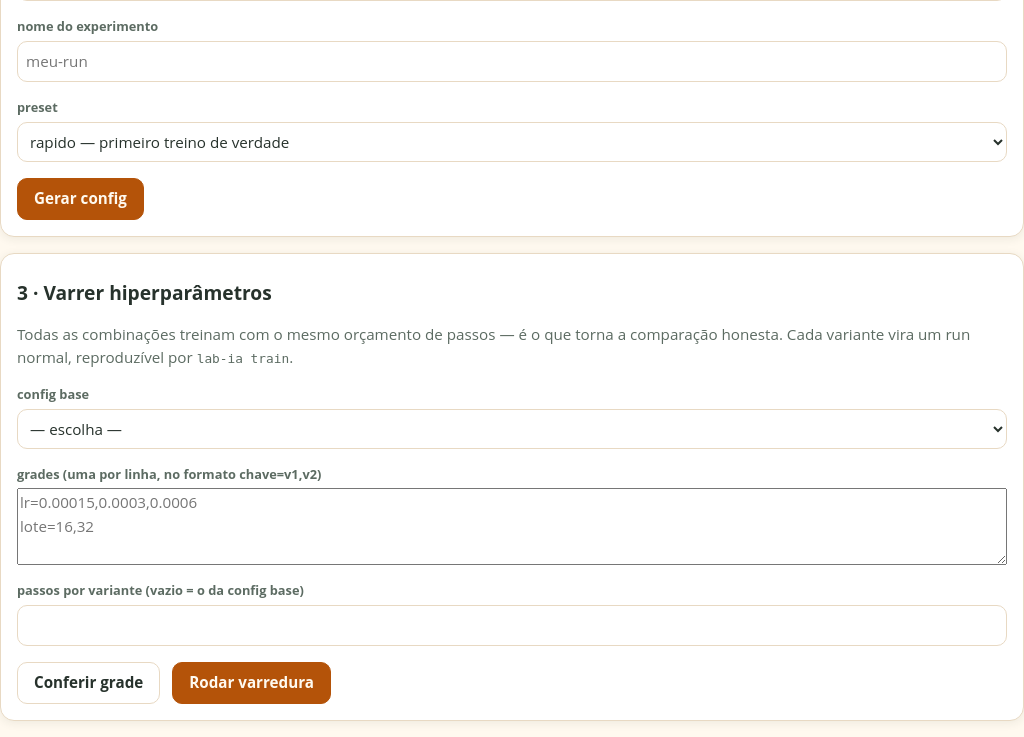
Test case: Bancada — varredura › avisa quando alguma combinação é impossível
(page scrolled)
Select "livros-rapido.yaml" in the dropdown labelled "config base": (512, 429) x1=17 y1=409 x2=1007 y2=449
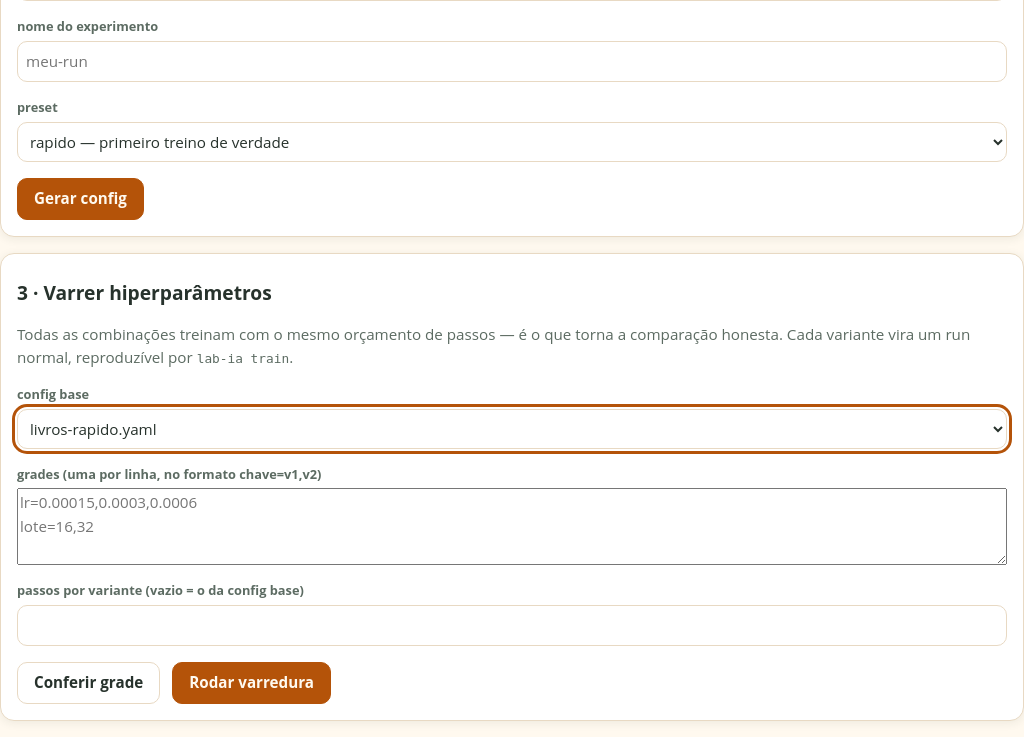
In the text box named "grades da varredura": (512, 527) x1=17 y1=488 x2=1007 y2=565, type "dim=64,65"
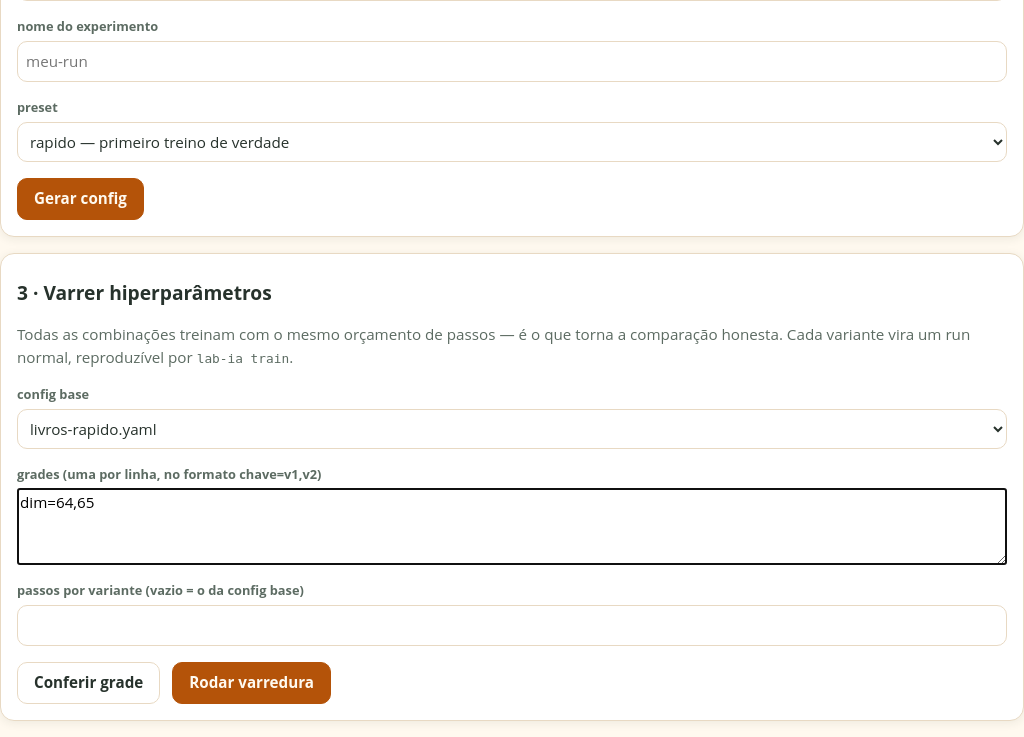
Click the button "Conferir grade": (89, 683) x1=17 y1=662 x2=160 y2=704
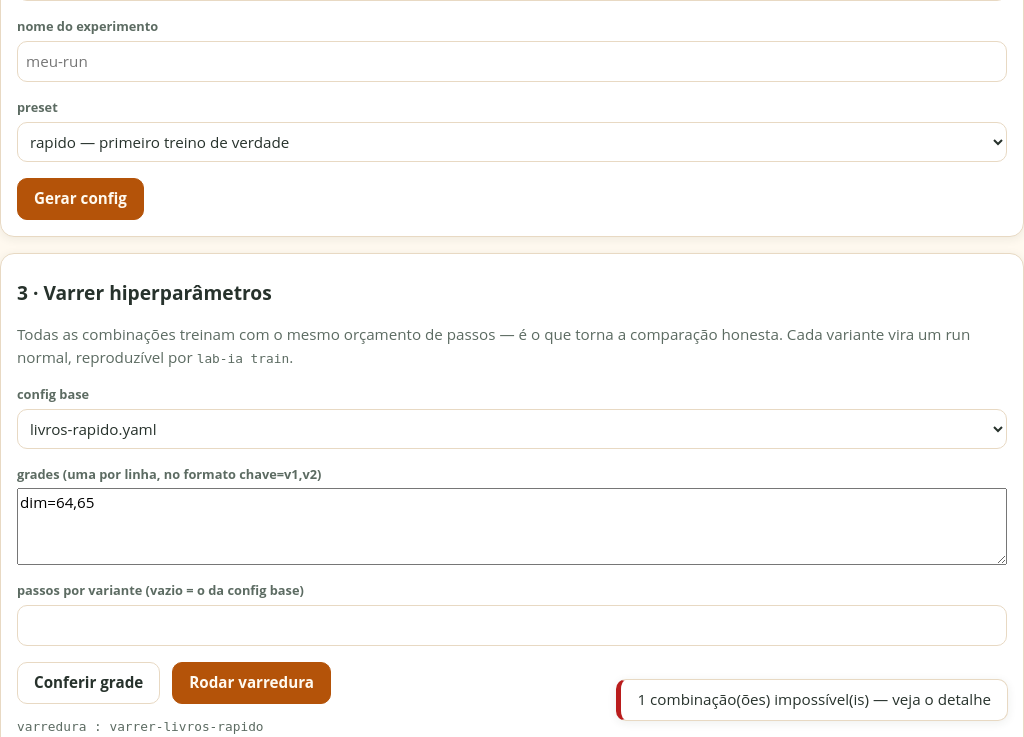
Expected: the message shows "impossível", x1=638 y1=689 x2=991 y2=709
